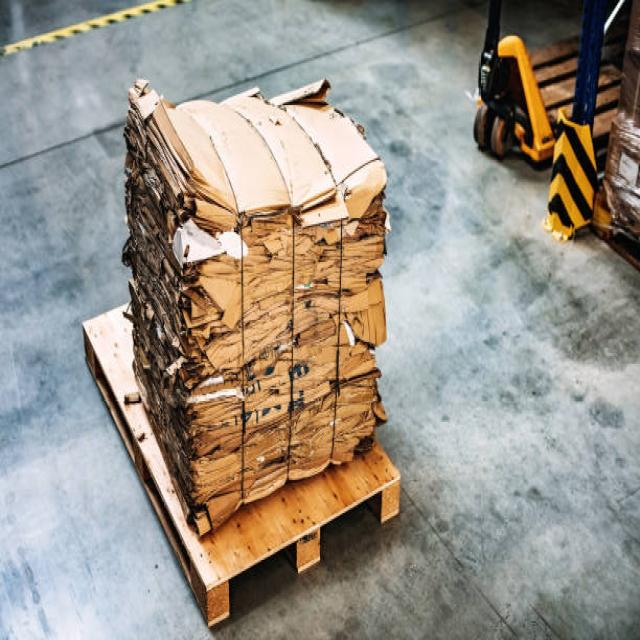Wooden-Pallets: (72, 325, 403, 630)
